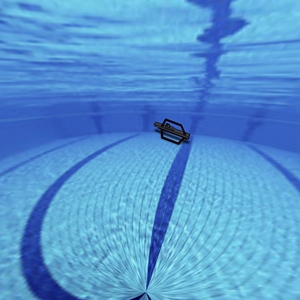submarine: (132, 103, 199, 160)
